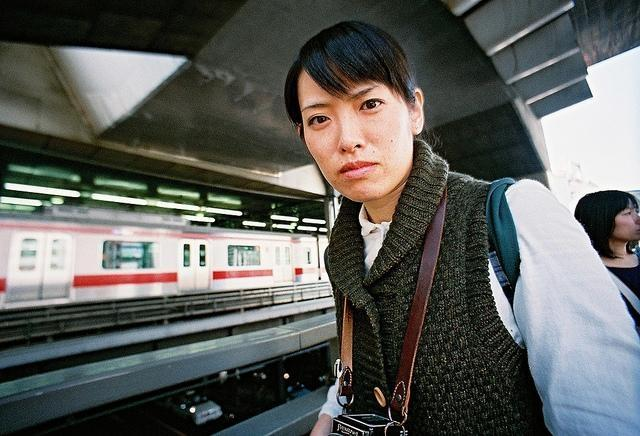car: (158, 388, 228, 427)
